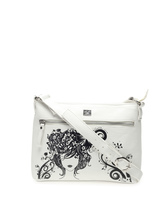bag: (31, 87, 152, 185)
